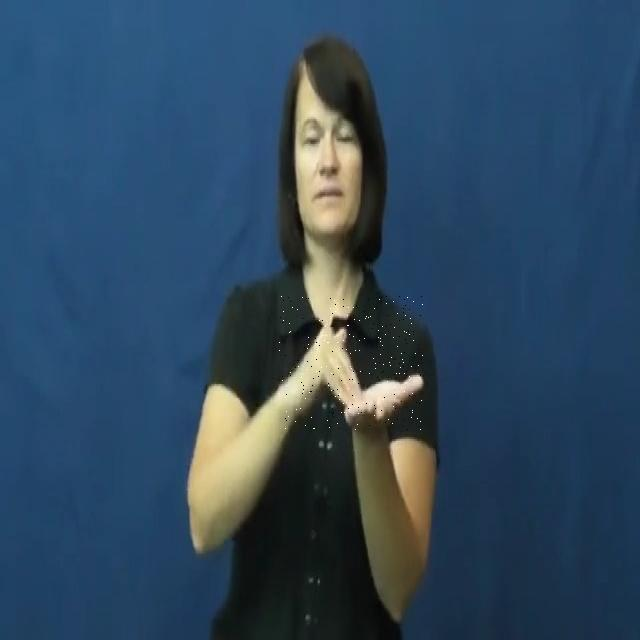refill: (278, 296, 423, 430)
